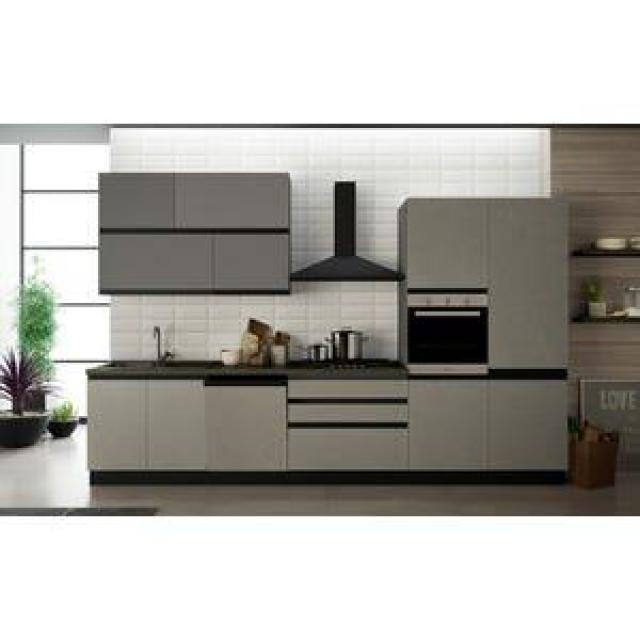dishwasher: (198, 374, 288, 472)
